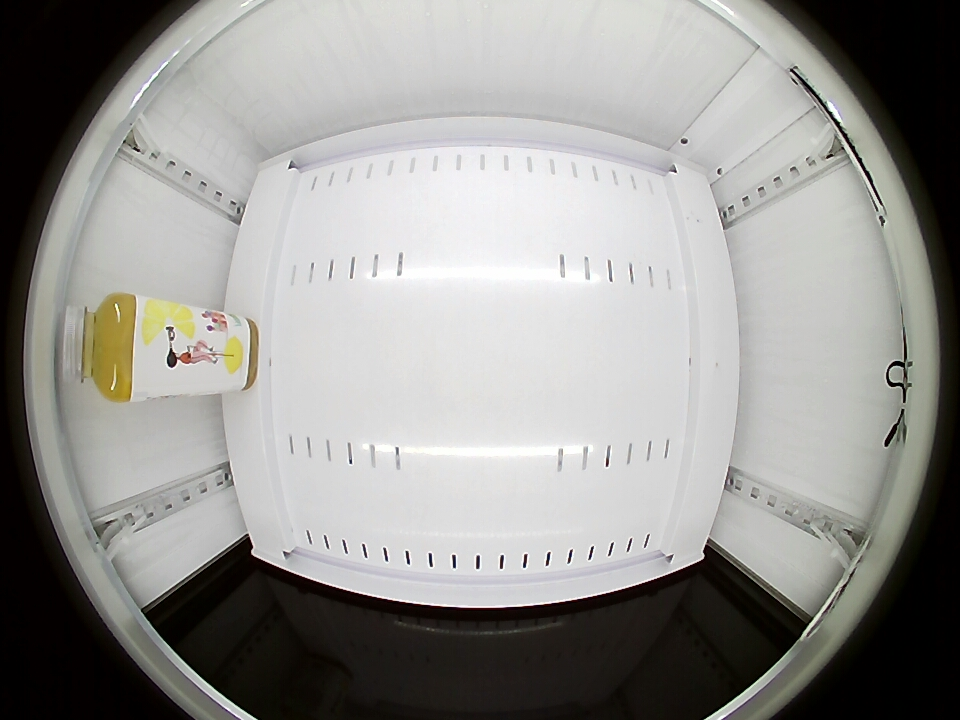chapai2: (78, 293, 149, 402)
